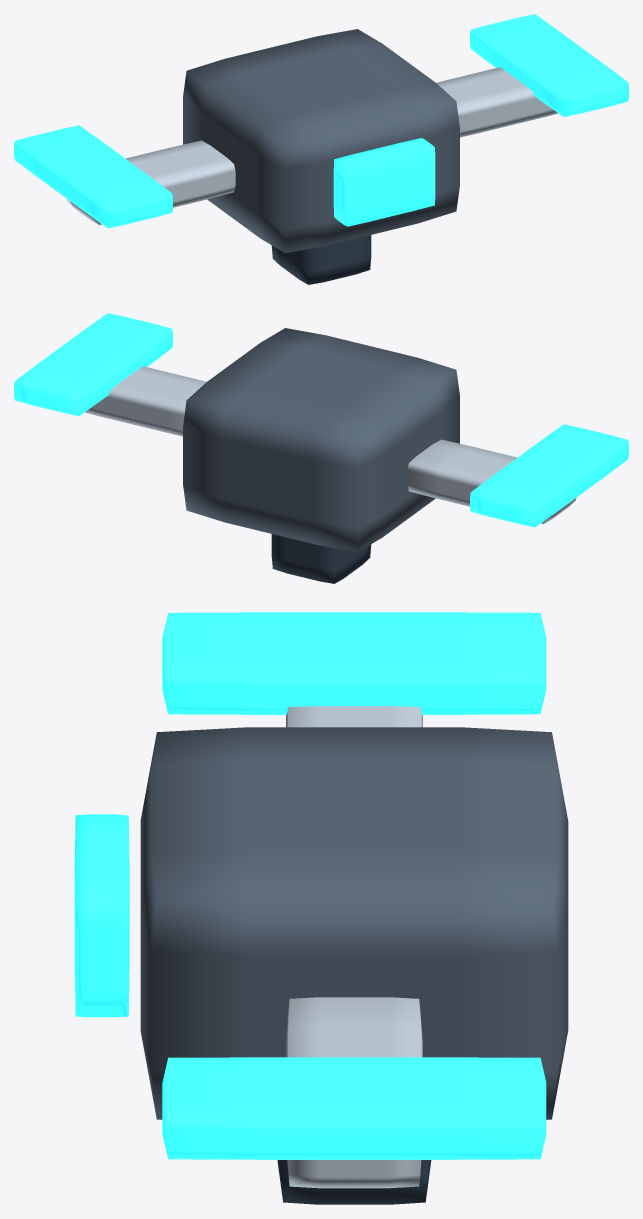
Rendered from drone-iris.glb.
3 views of the same model, one above another, from view 1: azimuth 30°, elevation 25°; view 2: azimuth 150°, elevation 25°; view 3: azimuth 270°, elevation 25° (orthographic). The views are drawn at different scales.
Parts seen in each view (by area): view 1: Core, RotorL, RotorR, Eye, WingR, WingL, Bottom; view 2: Core, RotorL, RotorR, WingR, WingL, Bottom; view 3: Core, RotorR, RotorL, WingR, Eye, Bottom, WingL.
Boxes of the visible parts, x1,y1,x2,y2 form: Core: (183,29,459,253); RotorL: (14,125,172,228); RotorR: (470,14,628,116); Eye: (333,138,435,226); WingR: (436,67,558,137); WingL: (66,140,235,224); Bottom: (271,235,371,284); Core: (183,328,459,552); RotorL: (470,424,628,527); RotorR: (14,313,172,415); WingR: (84,366,206,436); WingL: (407,439,576,523); Bottom: (271,534,371,583); Core: (140,727,568,1119); RotorR: (162,1057,546,1159); RotorL: (162,612,546,714); WingR: (286,997,422,1188); Eye: (74,814,129,1017); Bottom: (277,1160,431,1204); WingL: (286,706,422,727).
Bounding box in the file's own units: 2.2 × 0.745 × 0.9.
